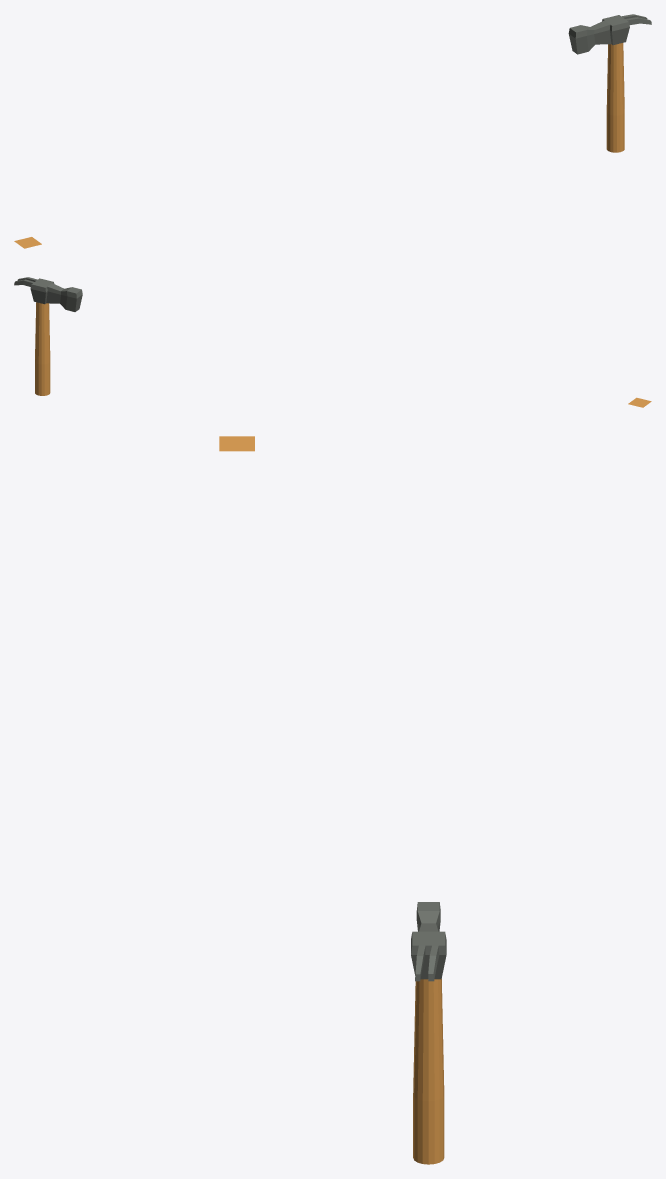
The model's file is Engelberg_Elian Matias_48366467.fbx.
The picture shows the model from 3 angles, top to bottom: view 1: azimuth 30°, elevation 25°; view 2: azimuth 150°, elevation 25°; view 3: azimuth 270°, elevation 25°; orthographic projection. The views are drawn at different scales.
Visible parts, largest first — view 1: Cylinder, Cube; view 2: Cylinder, Cube; view 3: Cylinder, Cube.
Part boxes in pixels (x1,y1,x2,y2): Cylinder: (14,43,624,248); Cube: (568,14,651,54); Cylinder: (35,302,651,407); Cube: (14,277,82,311); Cylinder: (219,436,444,1164); Cube: (411,902,446,981).
Bounding box in the file's own units: 964 × 174 × 162.
